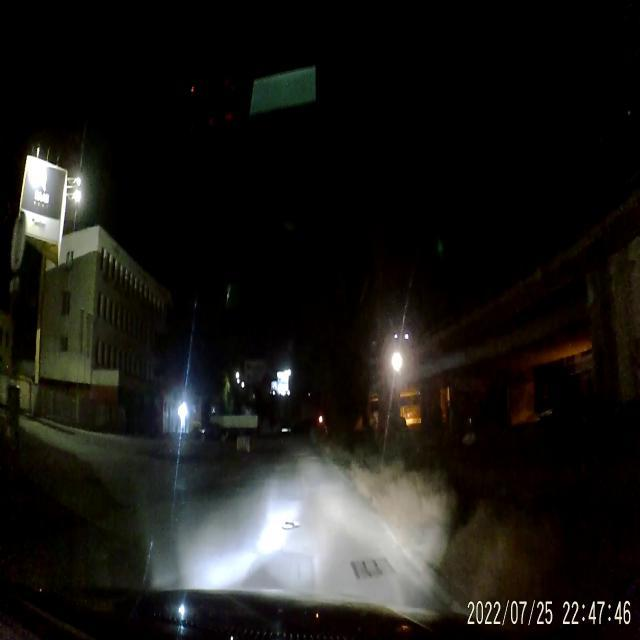Manhole: (352, 554, 398, 582)
Pothole: (278, 514, 299, 534)
